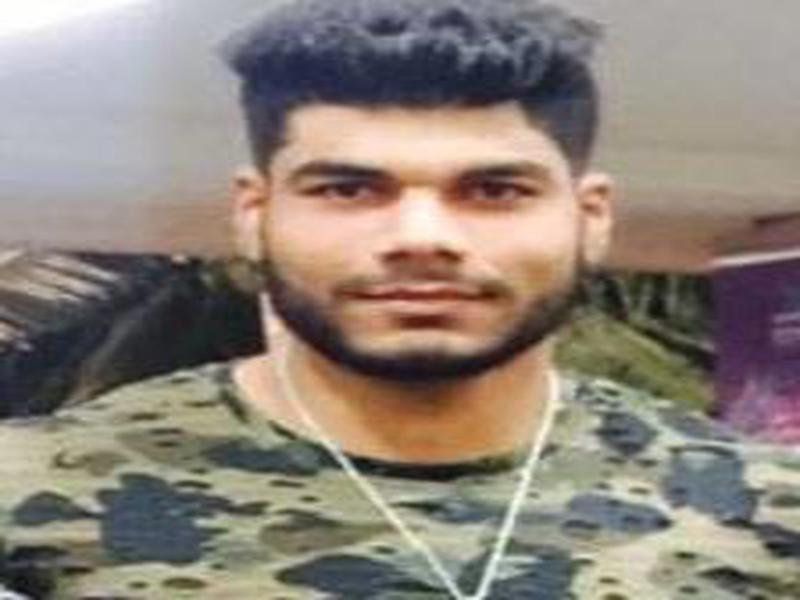without_mask: (259, 101, 568, 384)
